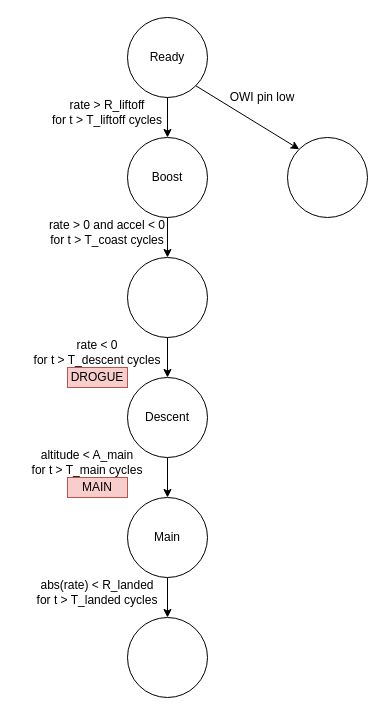
The diagram is 385 pixels wide and 715 high, and some of its shapes have lost their labels. The centre of each missing label's shape, as x and y in pixels:
"Coast" belongs at point 167,297.
"Landed" belongs at point 167,657.
"Program" belongs at point 327,177.
